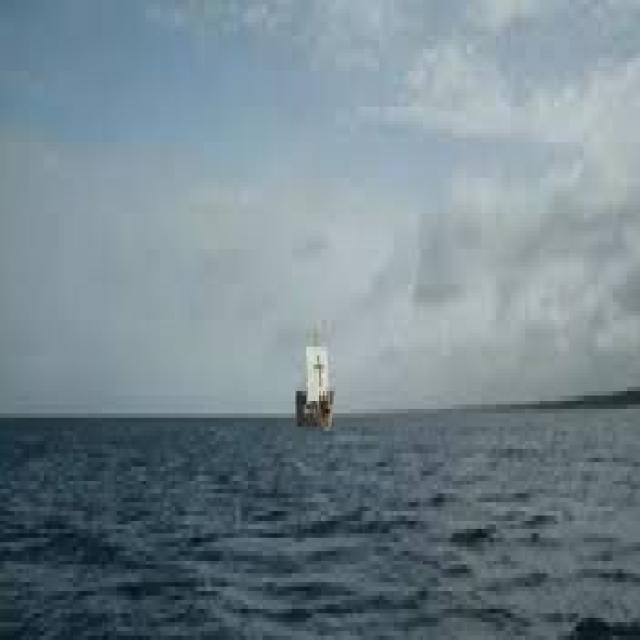fishing boat: (288, 341, 347, 434)
